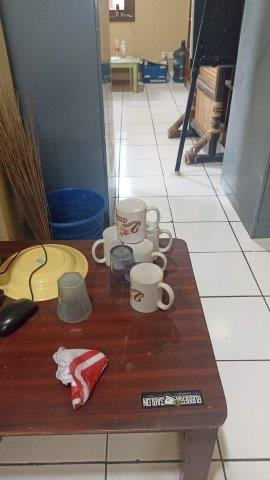plastik: (54, 346, 109, 410)
